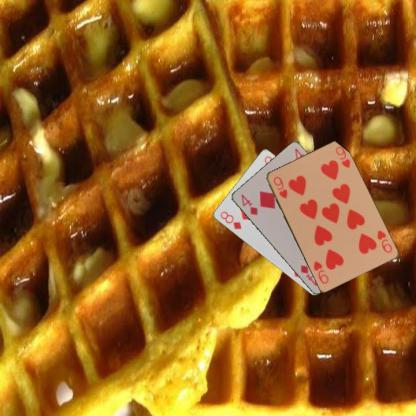4d: (238, 191, 259, 216)
8d: (217, 208, 243, 230)
9h: (374, 227, 393, 254), (270, 174, 288, 200)
